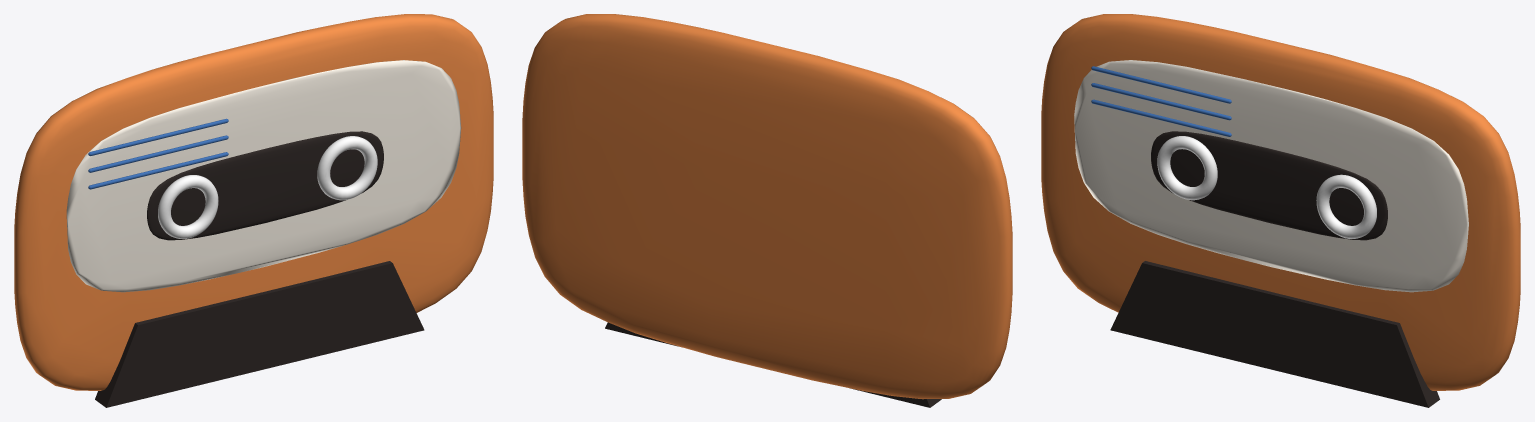
Rendered from deco_cassette.glb.
3 renders of one model, left to right at view 1: azimuth 30°, elevation 25°; view 2: azimuth 150°, elevation 25°; view 3: azimuth 330°, elevation 25°, orthographic. The views are drawn at different scales.
Visible parts, largest first — view 1: cassette.001, etiqueta cassette.001, base cassette.001, ventana cassette.001, rueda cassette 1.001, rueda cassette -1.001, línea etiqueta 1.001, línea etiqueta 0.001, línea etiqueta 2.001; view 2: cassette.001, base cassette.001; view 3: cassette.001, etiqueta cassette.001, base cassette.001, ventana cassette.001, rueda cassette -1.001, rueda cassette 1.001, línea etiqueta 0.001, línea etiqueta 1.001, línea etiqueta 2.001.
Boxes of the visible parts, <box> form: cassette.001: <box>14,14,493,390</box>; etiqueta cassette.001: <box>66,60,461,292</box>; base cassette.001: <box>95,261,424,407</box>; ventana cassette.001: <box>147,131,383,240</box>; rueda cassette 1.001: <box>317,136,377,200</box>; rueda cassette -1.001: <box>158,175,218,238</box>; línea etiqueta 1.001: <box>88,135,228,172</box>; línea etiqueta 0.001: <box>88,118,228,156</box>; línea etiqueta 2.001: <box>88,152,228,189</box>; cassette.001: <box>522,14,1012,399</box>; base cassette.001: <box>605,322,941,407</box>; cassette.001: <box>1041,14,1520,390</box>; etiqueta cassette.001: <box>1074,60,1468,292</box>; base cassette.001: <box>1110,261,1439,407</box>; ventana cassette.001: <box>1151,131,1387,240</box>; rueda cassette -1.001: <box>1157,136,1217,200</box>; rueda cassette 1.001: <box>1316,174,1376,238</box>; línea etiqueta 0.001: <box>1091,66,1231,103</box>; línea etiqueta 1.001: <box>1091,83,1231,120</box>; línea etiqueta 2.001: <box>1091,99,1231,136</box>.
Bounding box in the file's own units: 0.5997 × 0.3799 × 0.0572.
